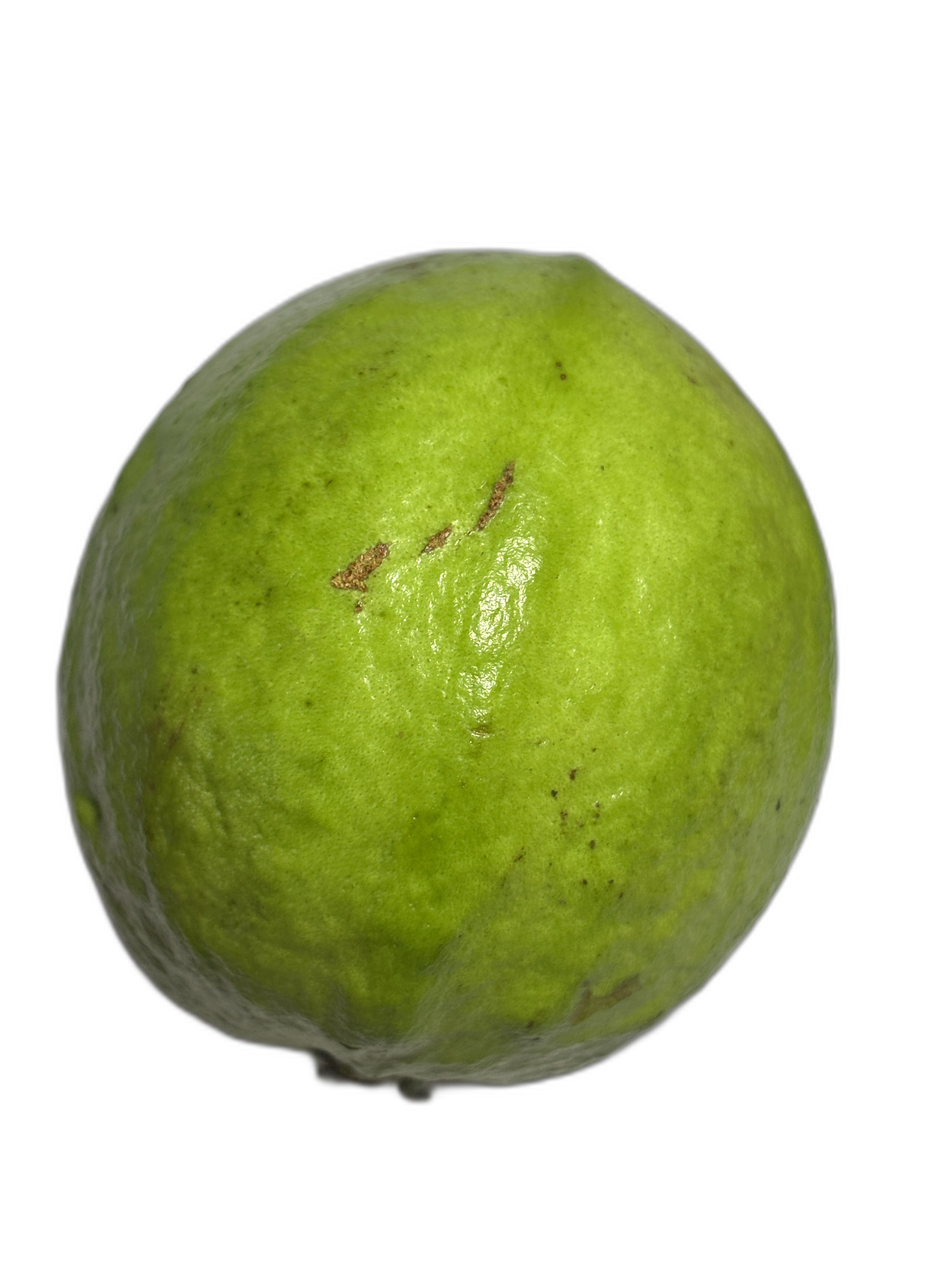guava: (0, 69, 840, 1083)
